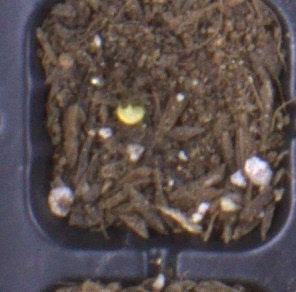chilli seed: (116, 103, 146, 125)
